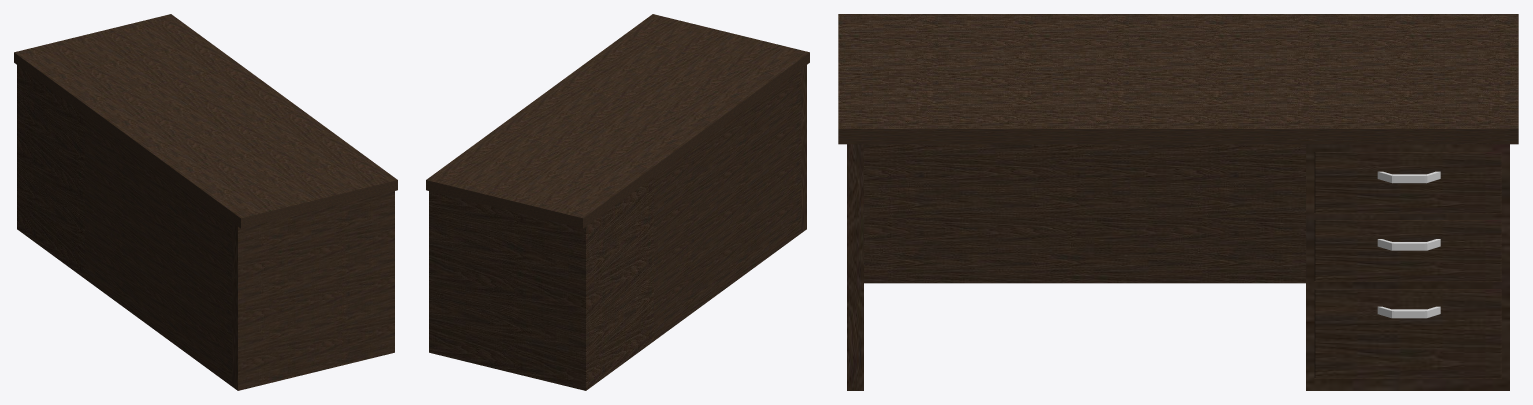
The model's file is Desk.fbx.
The picture shows the model from 3 angles, left to right: view 1: azimuth 30°, elevation 25°; view 2: azimuth 150°, elevation 25°; view 3: azimuth 270°, elevation 25°; orthographic projection. The views are drawn at different scales.
Parts seen in each view (by area): view 1: top, left, back, DeskDrawrs; view 2: top, DeskDrawrs, back, left; view 3: top, back, DrawrBottom, DeskDrawrs, DrawrTop, DrawrMiddle, left, handle.003, handle, handle.002.
Boxes of the visible parts, x1=… form: top: x1=14, y1=14, x2=397, y2=228; left: x1=232, y1=191, x2=394, y2=390; back: x1=85, y1=115, x2=232, y2=386; DeskDrawrs: x1=17, y1=65, x2=84, y2=278; top: x1=426, y1=14, x2=809, y2=228; DeskDrawrs: x1=429, y1=177, x2=653, y2=390; back: x1=654, y1=69, x2=801, y2=340; left: x1=801, y1=65, x2=806, y2=232; top: x1=838, y1=14, x2=1518, y2=144; back: x1=864, y1=144, x2=1305, y2=283; DrawrBottom: x1=1314, y1=289, x2=1501, y2=378; DeskDrawrs: x1=1306, y1=144, x2=1509, y2=390; DrawrTop: x1=1314, y1=152, x2=1501, y2=213; DrawrMiddle: x1=1314, y1=220, x2=1501, y2=281; left: x1=847, y1=144, x2=863, y2=390; handle.003: x1=1377, y1=306, x2=1440, y2=318; handle: x1=1377, y1=171, x2=1440, y2=183; handle.002: x1=1377, y1=239, x2=1440, y2=250.
Size of the model in its own units: 82.97 by 85 by 200.
2 materials, 1 textured.
